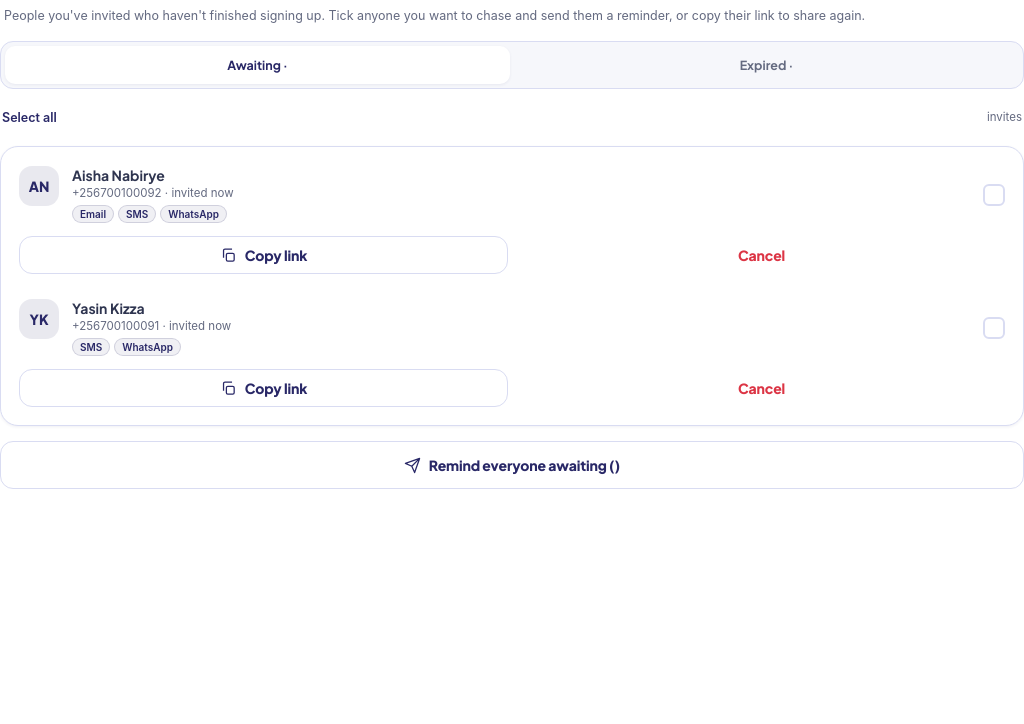
Test case: <PendingKycMobile /> › warns, and refuses to send, when no chosen channel can reach anyone selected
Click the checkbox labelled "YK Yasin Kizza +256700100091 · invited now SMS WhatsApp": (39, 319) [19,286,1005,369]
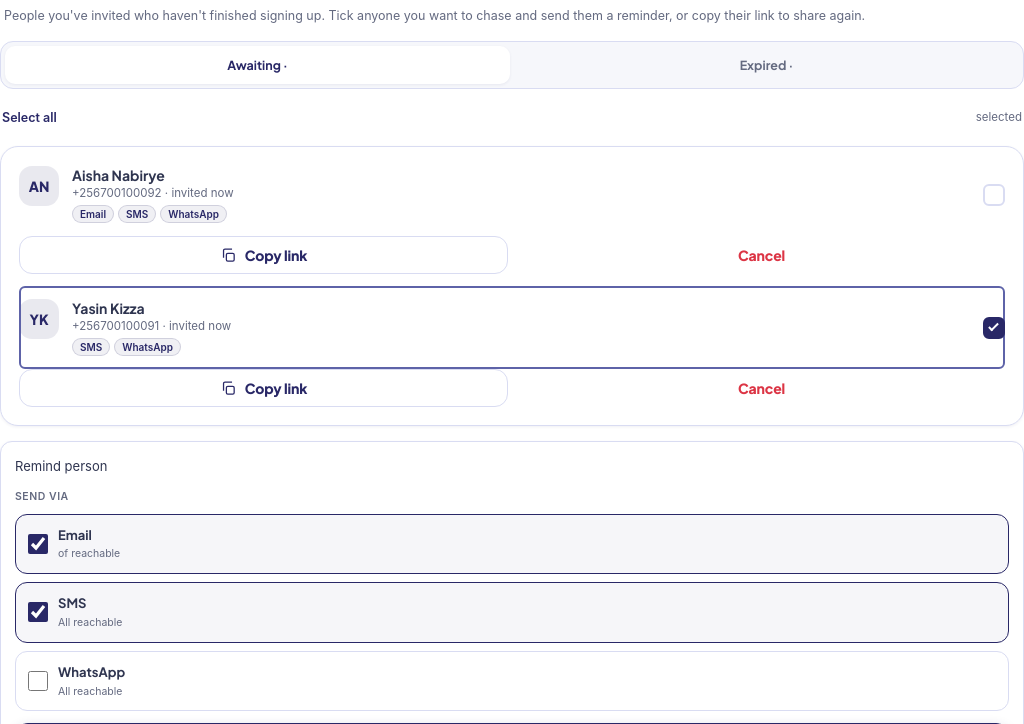
Click the checkbox named "Send via SMS": (38, 612) [28,602,48,622]
(page scrolled)
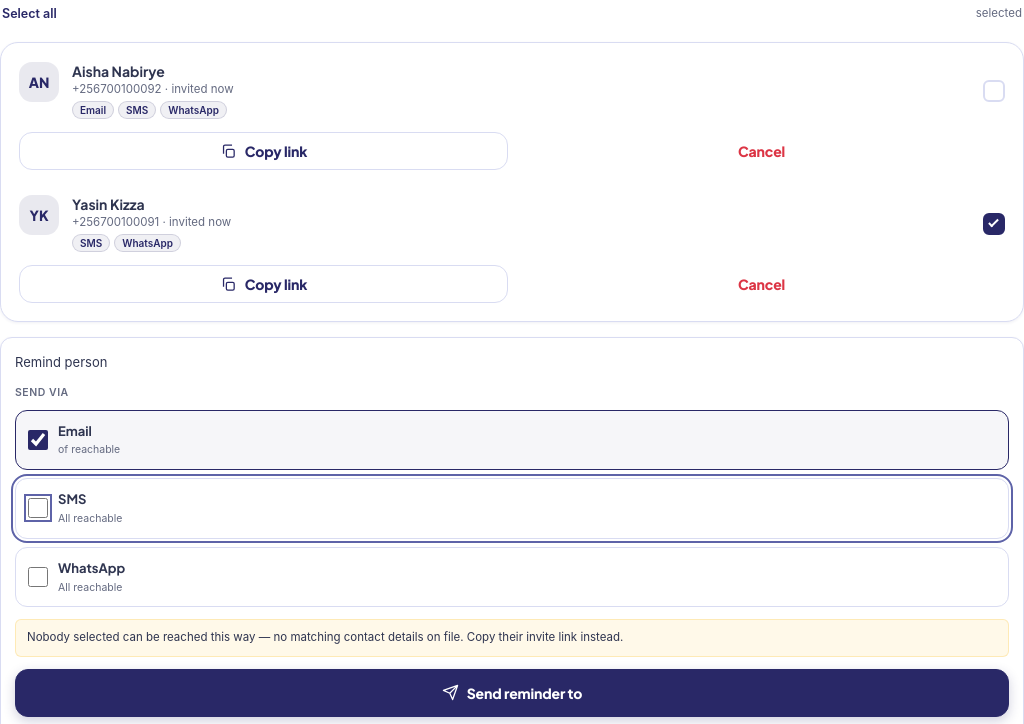
Expected: the text "Nobody selected can be reached this way" is shown, [27,630,623,644]
Expected: the button "Send reminder to" is disabled, [15,669,1009,717]
